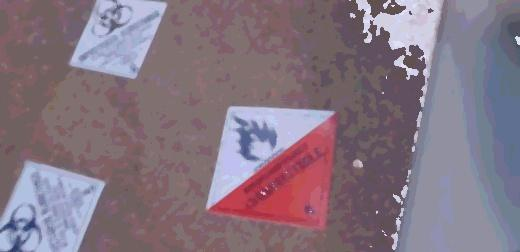infectious-substance: (1, 159, 109, 252), (67, 2, 173, 88)
spontaneously-combustible: (205, 104, 341, 231)
